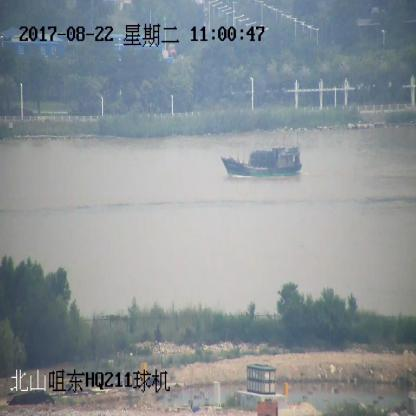Fishing Boat: (222, 144, 302, 176)
